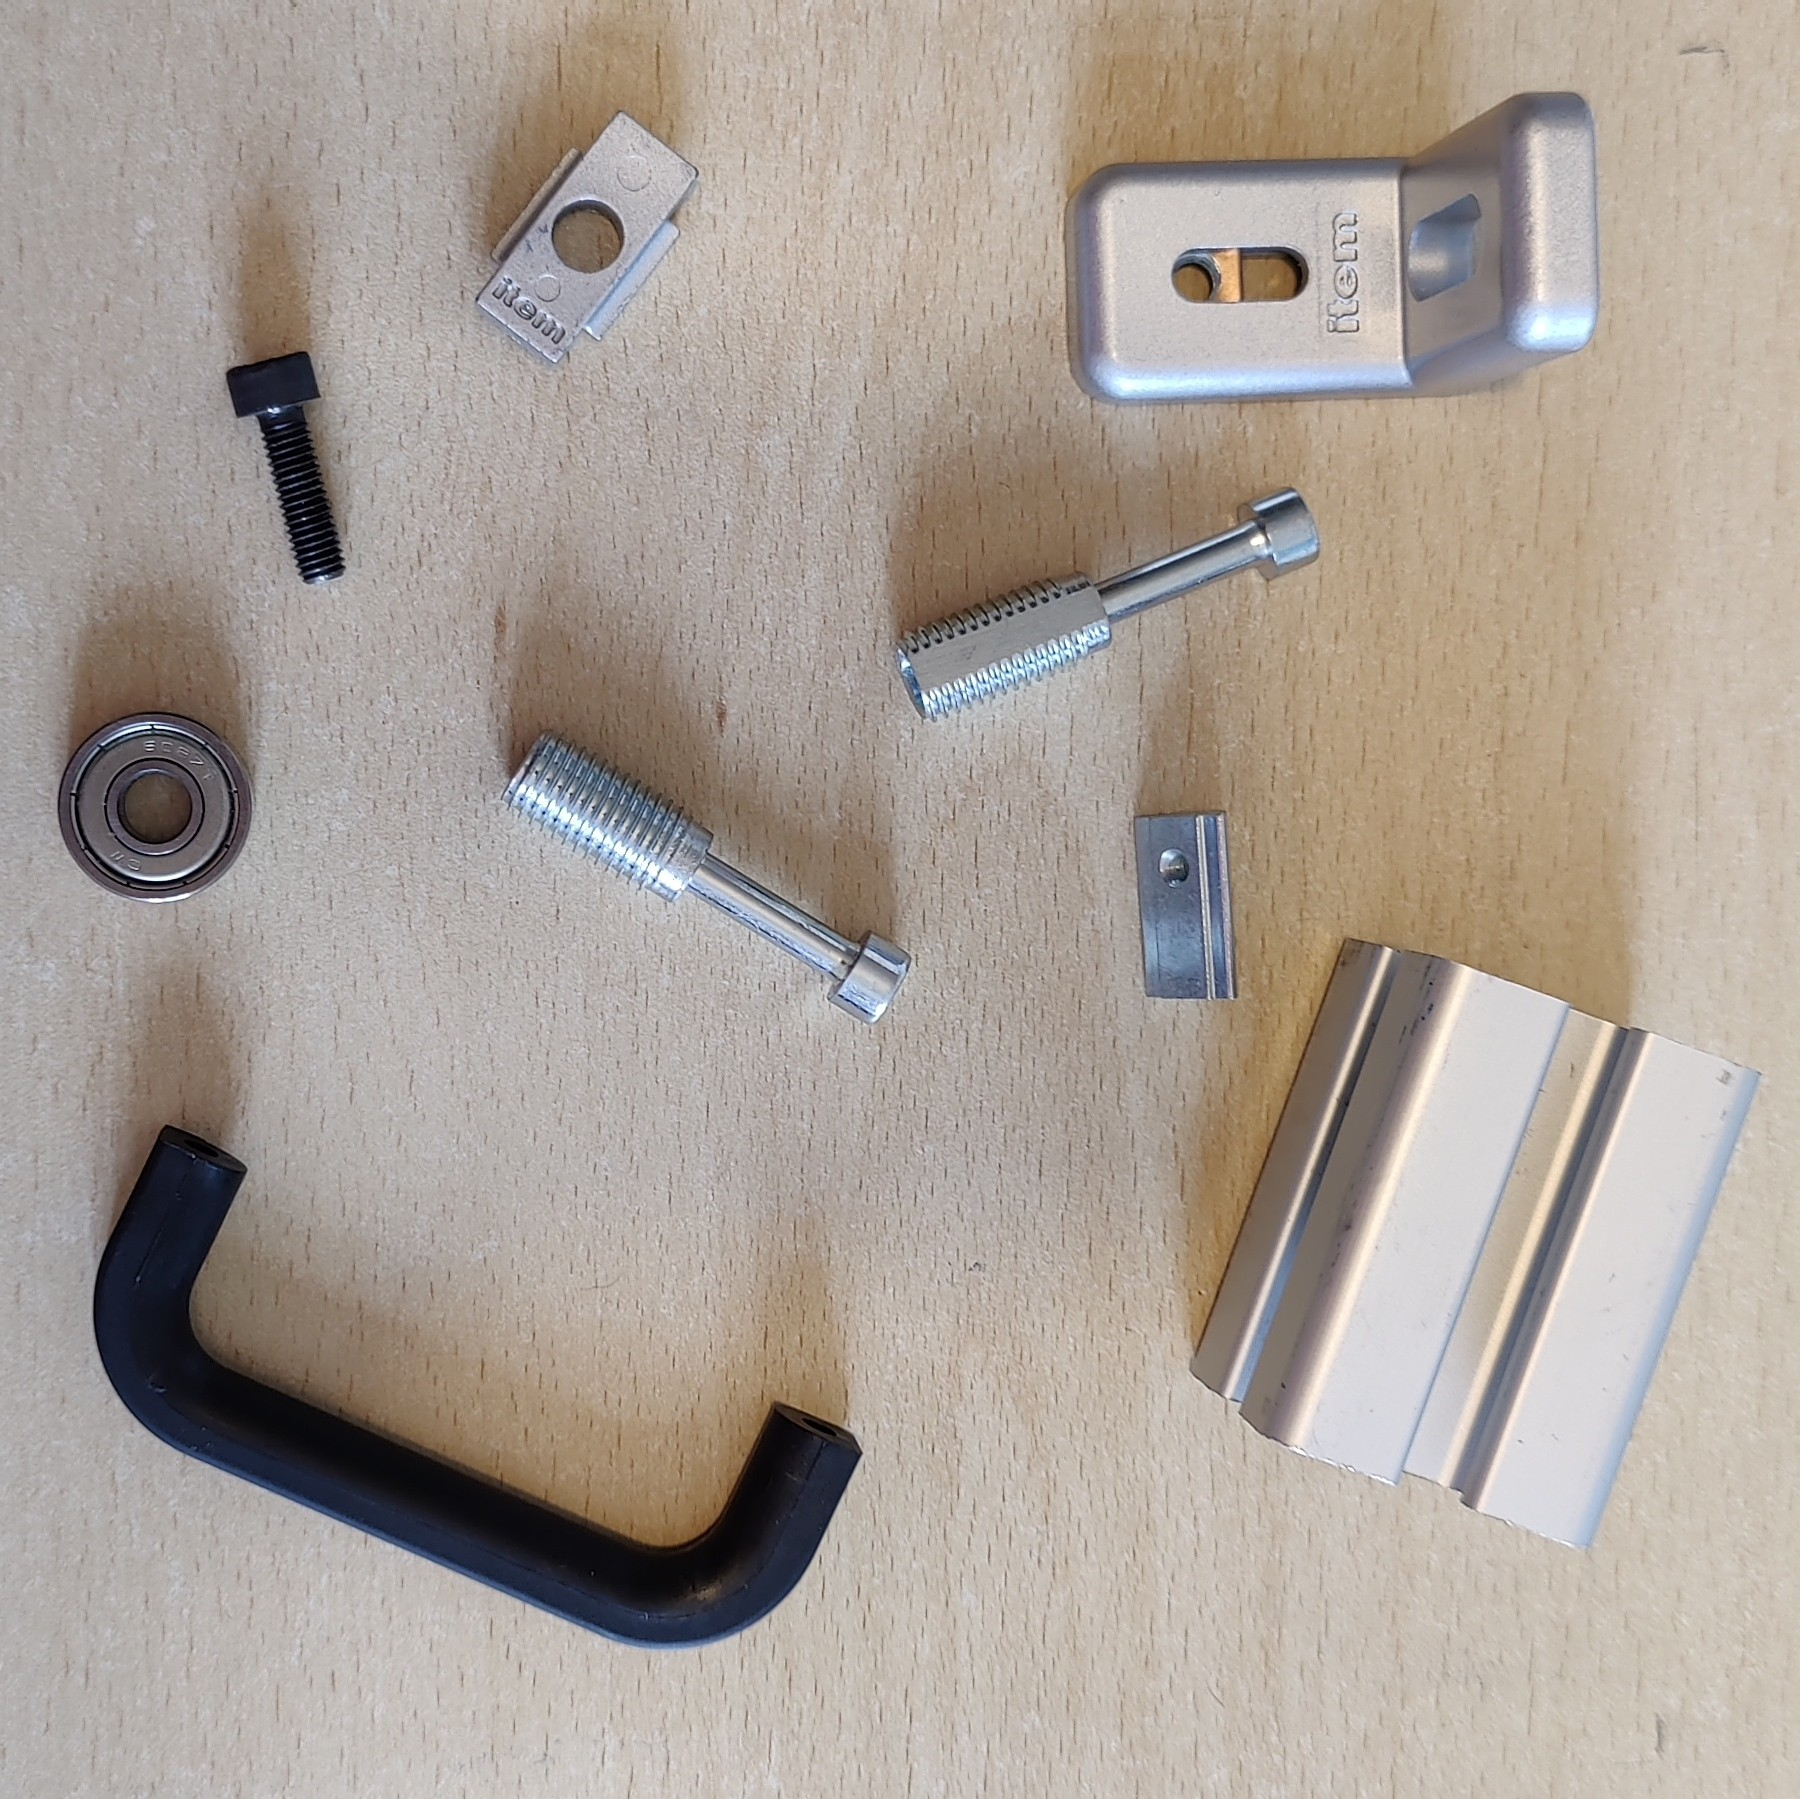Aluminium Extension: (1182, 932, 1765, 1554)
Ball Bearing: (53, 710, 255, 906)
Multiwinkel: (1061, 87, 1602, 409)
Pull Handle: (91, 1120, 865, 1652)
Shoulder Socket Head Cap Screw: (497, 730, 916, 1030), (889, 481, 1324, 730)
Socket Head Cap Screw: (221, 348, 347, 586)
T Nut Square: (469, 104, 702, 371)
T Spring Nut: (1130, 807, 1238, 1003)
